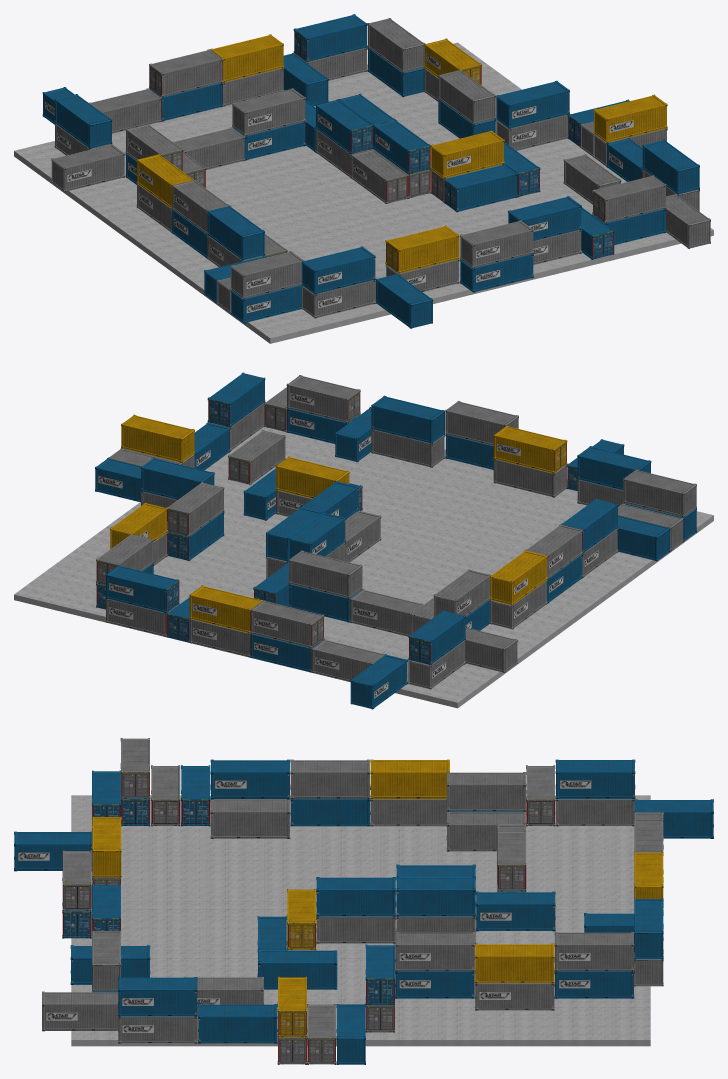
3 renders of one model, top to bottom at view 1: azimuth 30°, elevation 25°; view 2: azimuth 150°, elevation 25°; view 3: azimuth 270°, elevation 25°, orthographic. The views are drawn at different scales.
Parts seen in each view (by area): view 1: Cube, Gray_Container005, Gray_Container001, Blue_Container018, Gray_Container030, Gray_Container032, Blue_Container026, Gray_Container008, Blue_Container008, Blue_Container014, Gray_Container018, Gray_Container020 (+49 smaller); view 2: Cube, Gray_Container001, Gray_Container008, Blue_Container008, Gray_Container028, Gray_Container041, Gray_Container032, Gray_Container020, Blue_Container022, Gray_Container007, Gray_Container010, Blue_Container003 (+46 smaller); view 3: Cube, Gray_Container016, Blue_Container010, Blue_Container016, Blue_Container017, Blue_Container027, Gray_Container011, Gray_Container039, Blue_Container029, Blue_Container004, Gray_Container013, Gray_Container036 (+45 smaller).
Boxes of the visible parts, bbox=[...] form: Cube: bbox=[14, 42, 713, 343]; Gray_Container005: bbox=[51, 144, 125, 192]; Gray_Container001: bbox=[232, 88, 305, 136]; Blue_Container018: bbox=[443, 164, 517, 212]; Gray_Container030: bbox=[460, 220, 533, 268]; Gray_Container032: bbox=[385, 225, 459, 273]; Blue_Container026: bbox=[302, 246, 375, 294]; Gray_Container008: bbox=[149, 49, 222, 97]; Blue_Container008: bbox=[293, 14, 367, 62]; Blue_Container014: bbox=[496, 80, 569, 128]; Gray_Container018: bbox=[430, 130, 504, 178]; Gray_Container020: bbox=[593, 94, 667, 142]; Cube: bbox=[14, 427, 713, 708]; Gray_Container001: bbox=[288, 550, 362, 598]; Gray_Container008: bbox=[250, 600, 324, 648]; Blue_Container008: bbox=[105, 565, 179, 613]; Gray_Container028: bbox=[286, 375, 360, 423]; Gray_Container041: bbox=[623, 469, 696, 517]; Gray_Container032: bbox=[493, 425, 567, 473]; Gray_Container020: bbox=[121, 414, 194, 462]; Blue_Container022: bbox=[371, 395, 444, 443]; Gray_Container007: bbox=[189, 585, 262, 633]; Gray_Container010: bbox=[349, 589, 423, 636]; Blue_Container003: bbox=[350, 654, 407, 709]; Cube: bbox=[71, 795, 650, 1046]; Gray_Container016: bbox=[395, 932, 474, 971]; Blue_Container010: bbox=[396, 877, 475, 916]; Blue_Container016: bbox=[198, 1004, 277, 1043]; Blue_Container017: bbox=[118, 977, 197, 1016]; Blue_Container027: bbox=[316, 877, 395, 916]; Gray_Container011: bbox=[554, 932, 634, 971]; Gray_Container039: bbox=[446, 772, 526, 811]; Blue_Container029: bbox=[210, 759, 290, 799]; Blue_Container004: bbox=[476, 891, 555, 931]; Gray_Container013: bbox=[475, 943, 554, 983]; Gray_Container036: bbox=[290, 759, 370, 799].
Size of the model in its own units: 55.62 by 5.81 by 60.43.
Materials: 4 (4 with a texture image).
